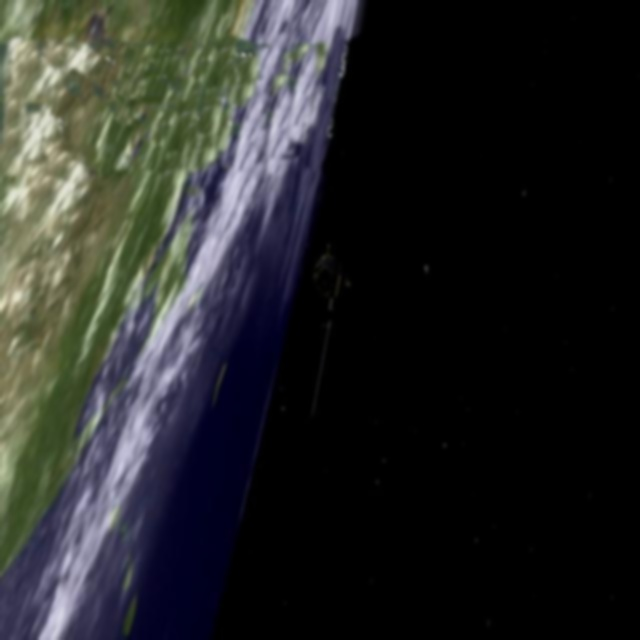satellite: (286, 225, 358, 571)
